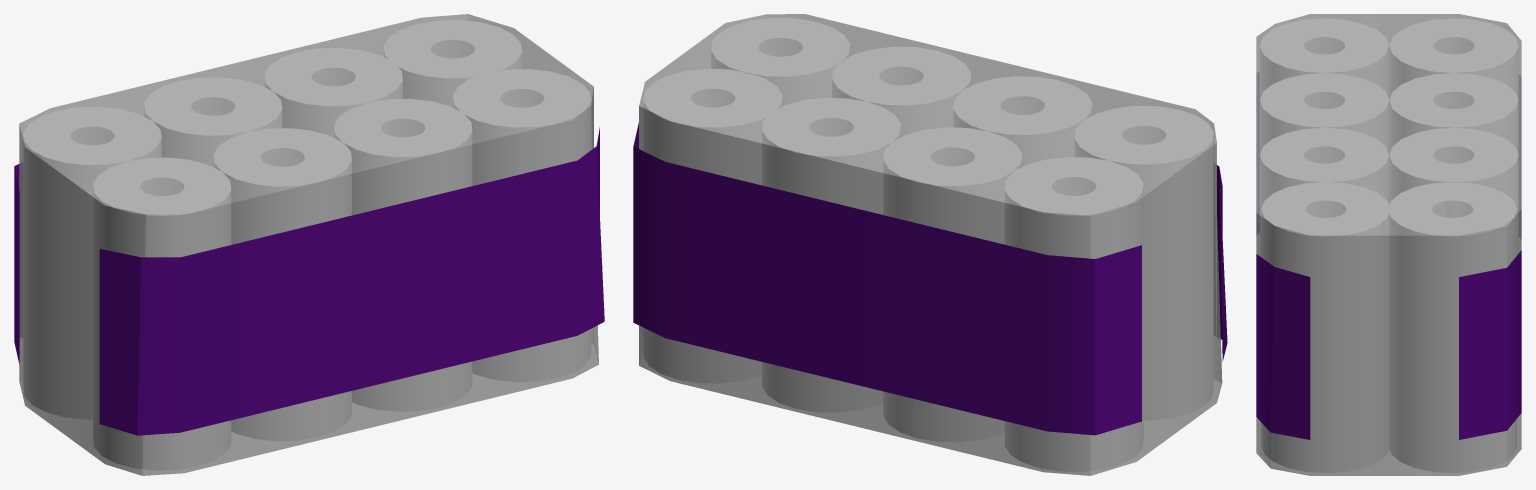
Rendered from paper_towels.fbx.
The picture shows the model from 3 angles, left to right: view 1: azimuth 30°, elevation 25°; view 2: azimuth 150°, elevation 25°; view 3: azimuth 270°, elevation 25°; orthographic projection. The views are drawn at different scales.
Visible parts, largest first — view 1: towel_wrap, polySurface3, paper_towel1, paper_towel2, paper_towel7, paper_towel5, paper_towel6, paper_towel4, paper_towel3, paper_towel8, polySurface4; view 2: towel_wrap, polySurface4, paper_towel2, paper_towel1, paper_towel4, paper_towel3, paper_towel8, paper_towel7, paper_towel5, paper_towel6, polySurface3; view 3: towel_wrap, paper_towel6, paper_towel8, polySurface4, polySurface3, paper_towel3, paper_towel5, paper_towel4, paper_towel1, paper_towel2, paper_towel7.
Part boxes in pixels (x1=…): towel_wrap: x1=19, y1=14, x2=598, y2=475; polySurface3: x1=99, y1=127, x2=604, y2=435; paper_towel1: x1=23, y1=107, x2=161, y2=419; paper_towel2: x1=93, y1=158, x2=230, y2=470; paper_towel7: x1=214, y1=128, x2=351, y2=440; paper_towel5: x1=334, y1=99, x2=471, y2=411; paper_towel6: x1=453, y1=69, x2=590, y2=381; paper_towel4: x1=144, y1=77, x2=281, y2=166; paper_towel3: x1=265, y1=48, x2=402, y2=137; paper_towel8: x1=384, y1=20, x2=521, y2=107; polySurface4: x1=14, y1=164, x2=19, y2=364; towel_wrap: x1=639, y1=14, x2=1222, y2=475; polySurface4: x1=633, y1=122, x2=1141, y2=435; paper_towel2: x1=1075, y1=106, x2=1213, y2=420; paper_towel1: x1=1005, y1=157, x2=1143, y2=471; paper_towel4: x1=883, y1=127, x2=1021, y2=441; paper_towel3: x1=762, y1=98, x2=900, y2=412; paper_towel8: x1=643, y1=69, x2=782, y2=383; paper_towel7: x1=953, y1=76, x2=1091, y2=166; paper_towel5: x1=832, y1=47, x2=970, y2=136; paper_towel6: x1=711, y1=18, x2=849, y2=105; polySurface3: x1=1217, y1=165, x2=1227, y2=361; towel_wrap: x1=1256, y1=14, x2=1521, y2=475; paper_towel6: x1=1261, y1=182, x2=1390, y2=472; paper_towel8: x1=1389, y1=182, x2=1516, y2=472; polySurface4: x1=1459, y1=250, x2=1521, y2=439; polySurface3: x1=1256, y1=254, x2=1310, y2=439; paper_towel3: x1=1389, y1=128, x2=1518, y2=254; paper_towel5: x1=1260, y1=128, x2=1388, y2=256; paper_towel4: x1=1389, y1=73, x2=1518, y2=153; paper_towel1: x1=1389, y1=18, x2=1518, y2=99; paper_towel2: x1=1260, y1=18, x2=1388, y2=98; paper_towel7: x1=1260, y1=73, x2=1388, y2=153.
Size of the model in its own units: 1.61 by 0.7947 by 0.7958.
